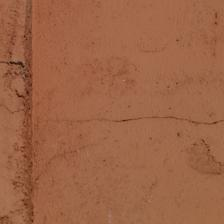Crack: (9, 4, 49, 224), (97, 107, 224, 135)
